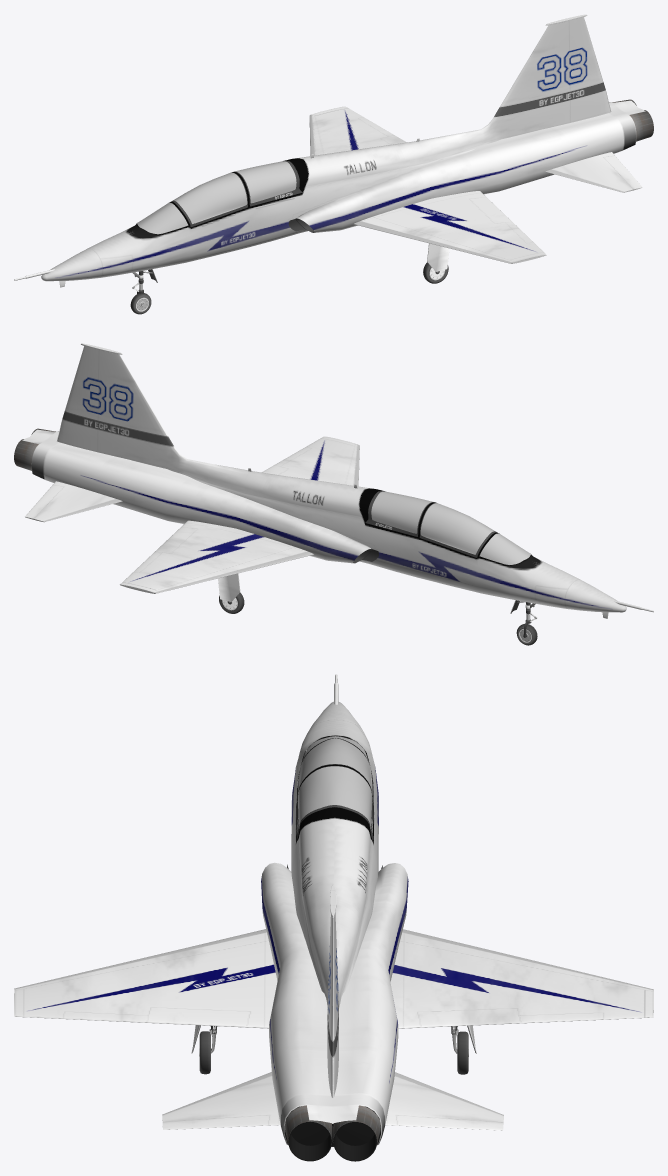
File: TAL16.obj
3 views of the same model, one above another, from view 1: azimuth 30°, elevation 25°; view 2: azimuth 150°, elevation 25°; view 3: azimuth 270°, elevation 25° (orthographic). The views are drawn at different scales.
Visible parts, largest first — view 1: CONTROL, GLASS_2, GLASS_3, GLASS_1, GEAR_R, GEAR_FW; view 2: CONTROL, GLASS_2, GLASS_3, GLASS_1, GEAR_R, GEAR_FW; view 3: CONTROL, GLASS_3, GLASS_2, GEAR_R.
Part boxes in pixels (x1,y1,x2,y2): CONTROL: [14, 14, 653, 287]; GLASS_2: [173, 172, 247, 223]; GLASS_3: [233, 161, 296, 203]; GLASS_1: [137, 202, 188, 234]; GEAR_R: [423, 243, 449, 283]; GEAR_FW: [130, 269, 157, 314]; CONTROL: [14, 343, 653, 618]; GLASS_2: [420, 503, 495, 554]; GLASS_3: [371, 491, 434, 533]; GLASS_1: [479, 533, 530, 564]; GEAR_R: [218, 573, 244, 613]; GEAR_FW: [510, 600, 537, 645]; CONTROL: [14, 674, 653, 1161]; GLASS_3: [298, 766, 372, 829]; GLASS_2: [298, 738, 372, 795]; GEAR_R: [191, 1025, 476, 1074].
Size of the model in its own units: 6.3 by 1.85 by 3.54.
